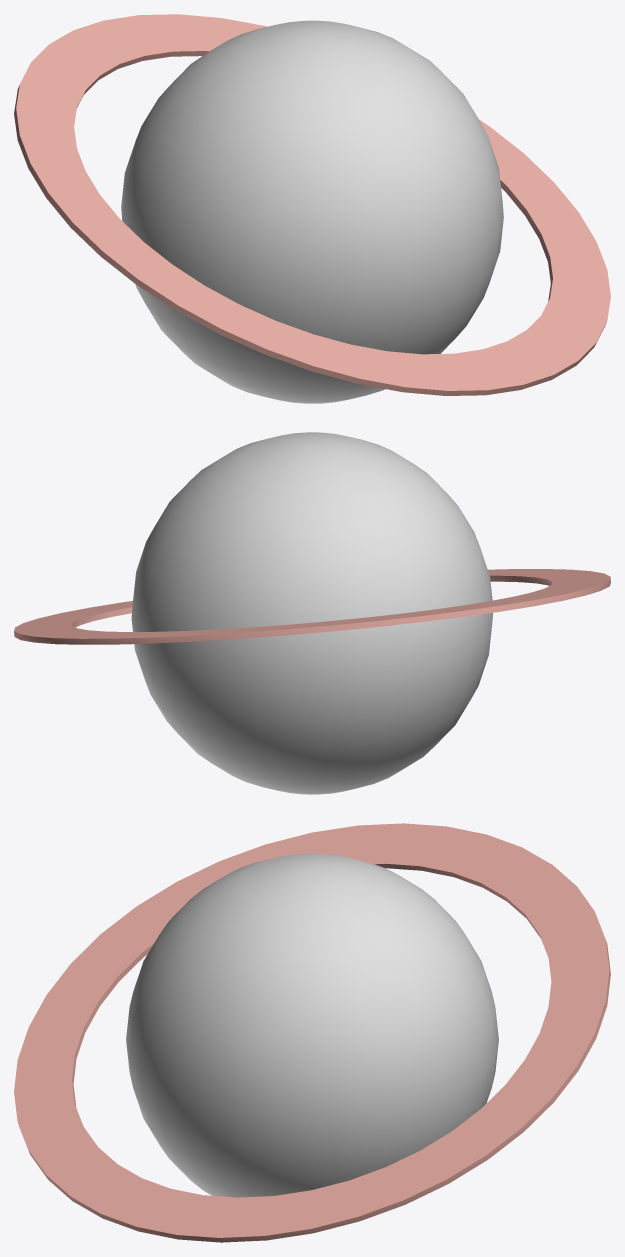
File: GayPlanet.glb
The picture shows the model from 3 angles, top to bottom: view 1: azimuth 30°, elevation 25°; view 2: azimuth 150°, elevation 25°; view 3: azimuth 270°, elevation 25°; orthographic projection. The views are drawn at different scales.
Visible parts, largest first — view 1: Cylinder.012; view 2: Cylinder.012; view 3: Cylinder.012.
Part boxes in pixels (left/top/right/bottom): Cylinder.012: left=14, top=14, right=610, bottom=403; Cylinder.012: left=14, top=432, right=610, bottom=794; Cylinder.012: left=14, top=823, right=610, bottom=1242.
Bounding box in the file's own units: 1.94 × 1.22 × 1.94.
